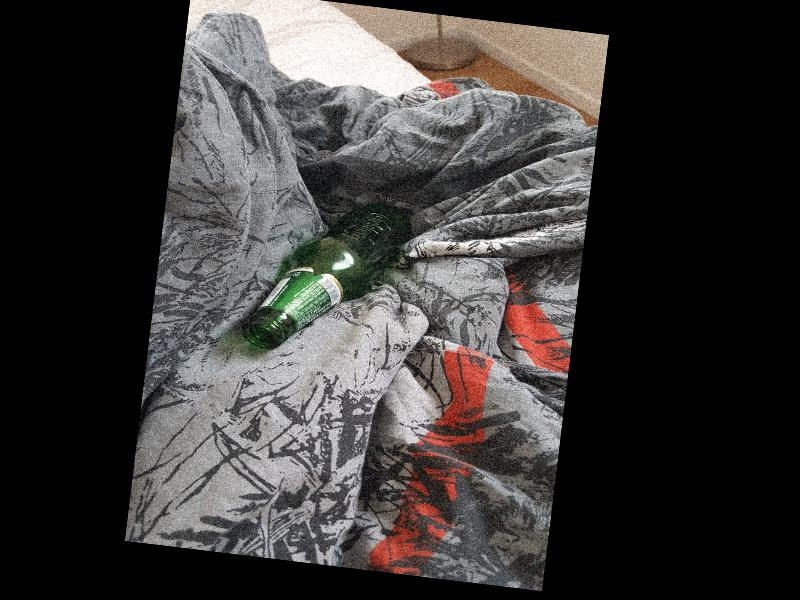Beer: (242, 189, 413, 366)
